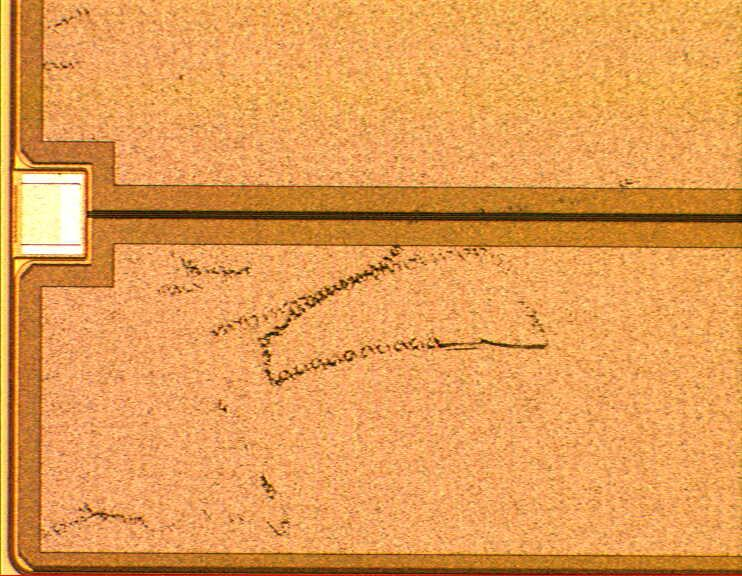SCRATCH: (18, 1, 709, 561)
